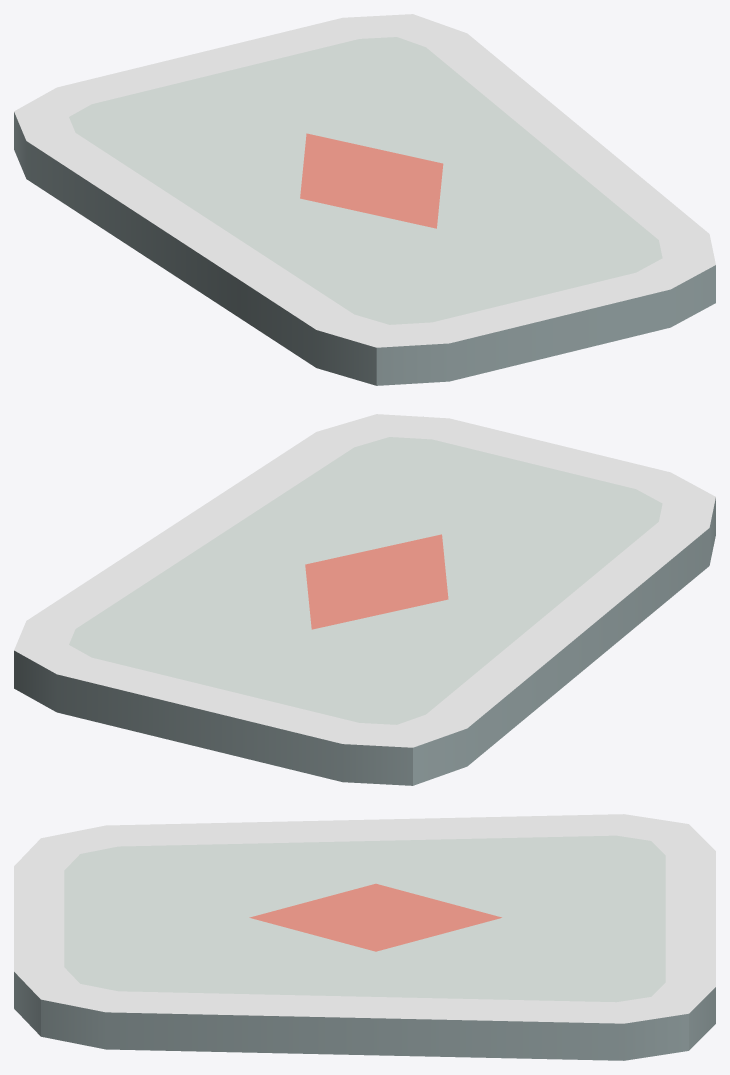
Rendered from Card_Diamond.fbx.
3 views of the same model, one above another, from view 1: azimuth 30°, elevation 25°; view 2: azimuth 150°, elevation 25°; view 3: azimuth 270°, elevation 25° (orthographic). The views are drawn at different scales.
Parts seen in each view (by area): view 1: Diamond; view 2: Diamond; view 3: Diamond.
Part boxes in pixels (x1,y1,x2,y2): Diamond: [14, 14, 715, 385]; Diamond: [14, 414, 715, 785]; Diamond: [14, 814, 715, 1060].
Bounding box in the file's own units: 0.3103 × 0.4394 × 0.0257.
